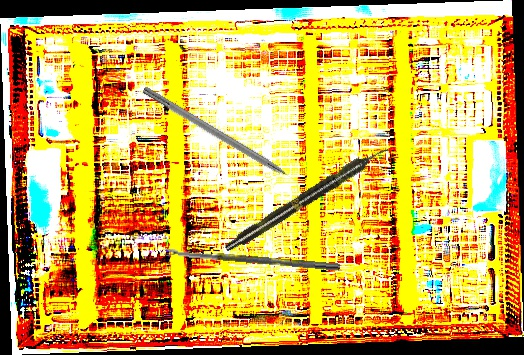Handpiece: (221, 141, 393, 256)
Hook Surgical: (140, 85, 308, 192)
Surgical Spoon: (163, 247, 341, 271)
